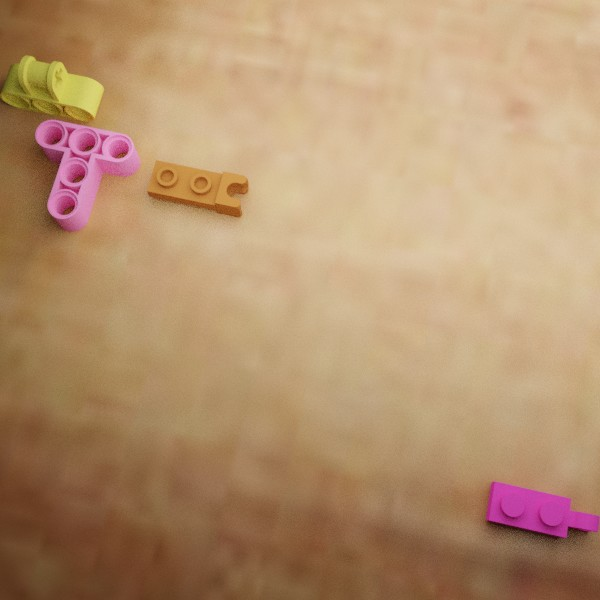lego: (35, 119, 140, 231), (0, 55, 103, 122), (485, 481, 599, 537), (146, 160, 248, 217)
